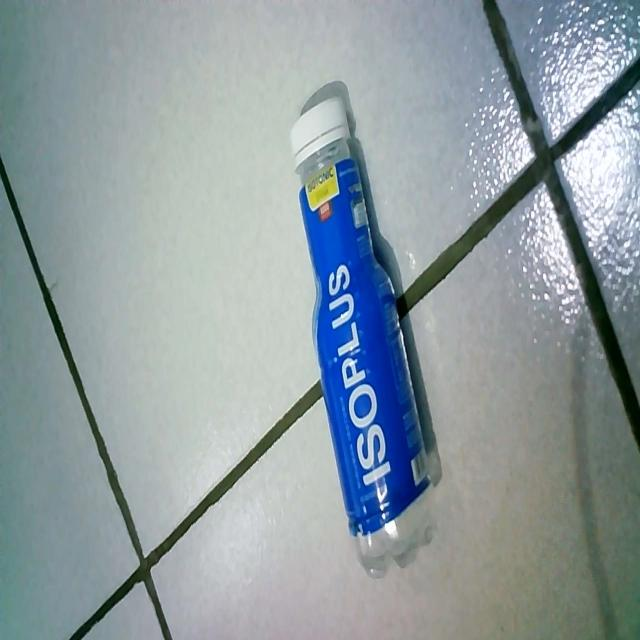botol: (274, 92, 450, 595)
